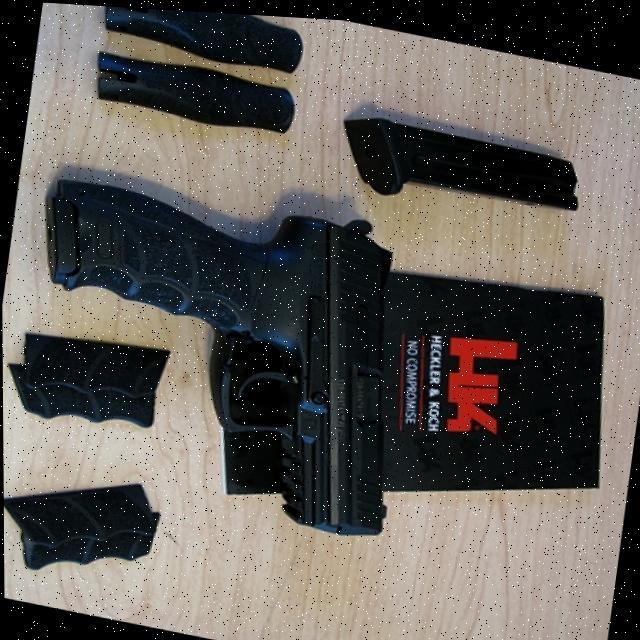pistol: (3, 153, 425, 541)
